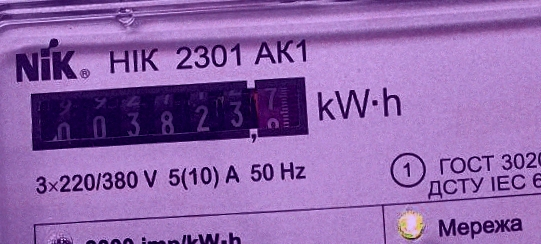0: (87, 110, 109, 139), (53, 117, 73, 141)
2: (191, 100, 213, 134)
3: (226, 97, 246, 128), (123, 107, 143, 137)
7: (262, 84, 280, 113)
8: (157, 106, 176, 135)
9: (54, 96, 73, 116)
screen: (21, 67, 313, 159)
